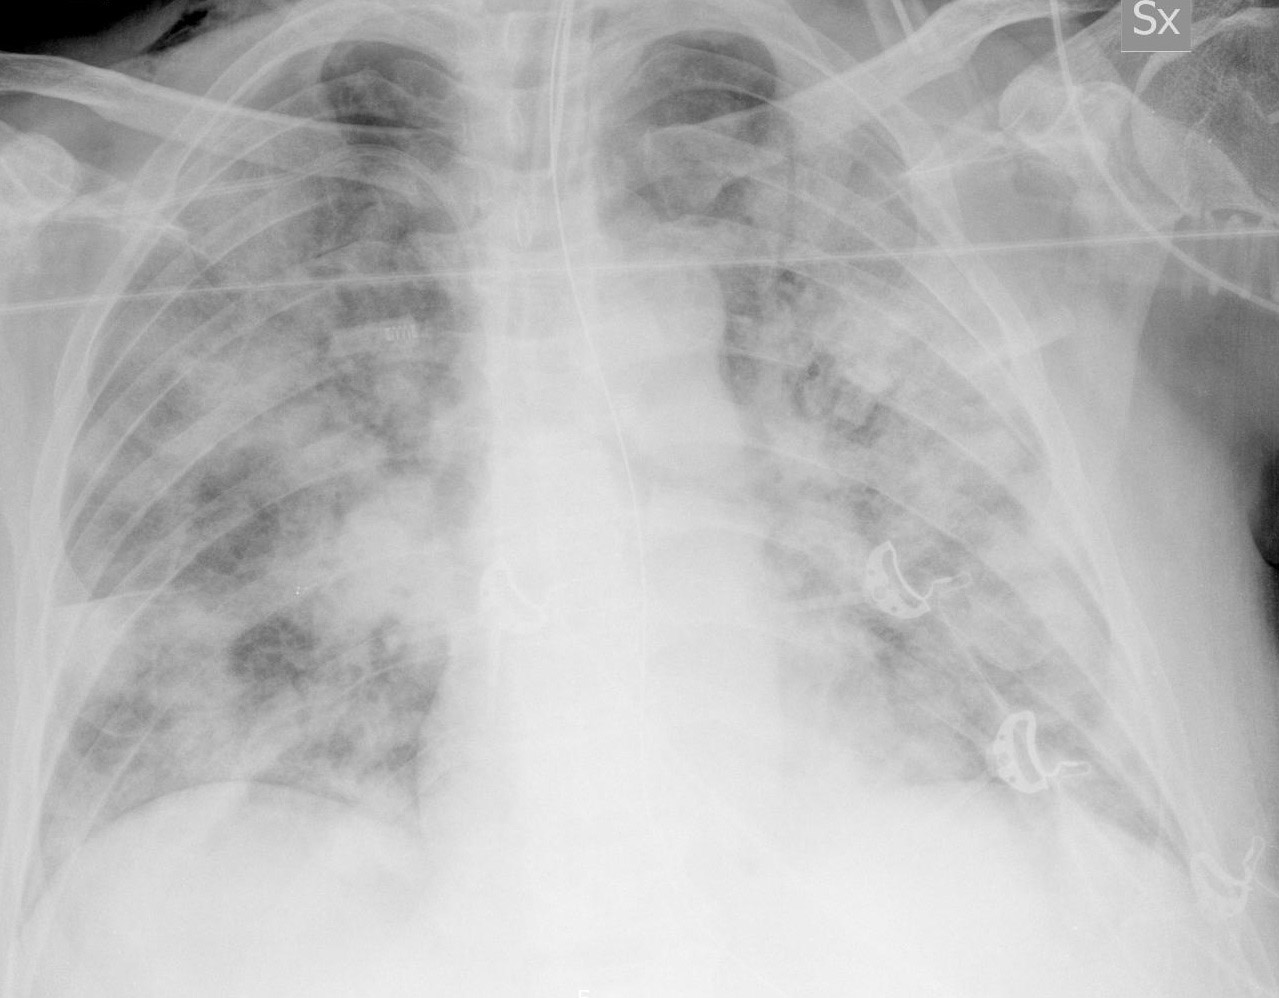Severe: (603, 34, 1167, 824), (50, 52, 473, 844)
